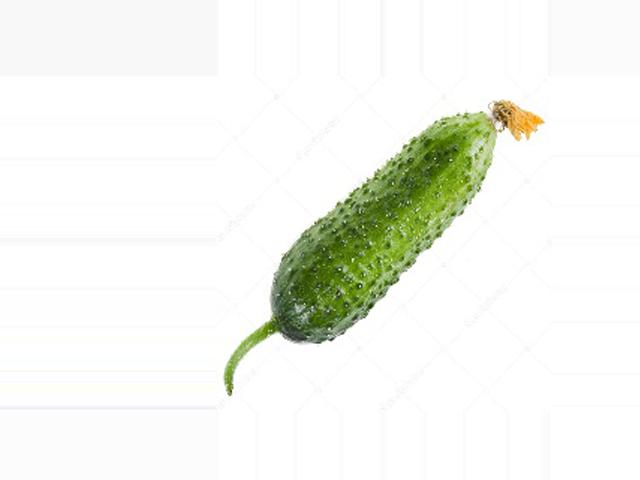cucumber: (224, 99, 545, 393)
